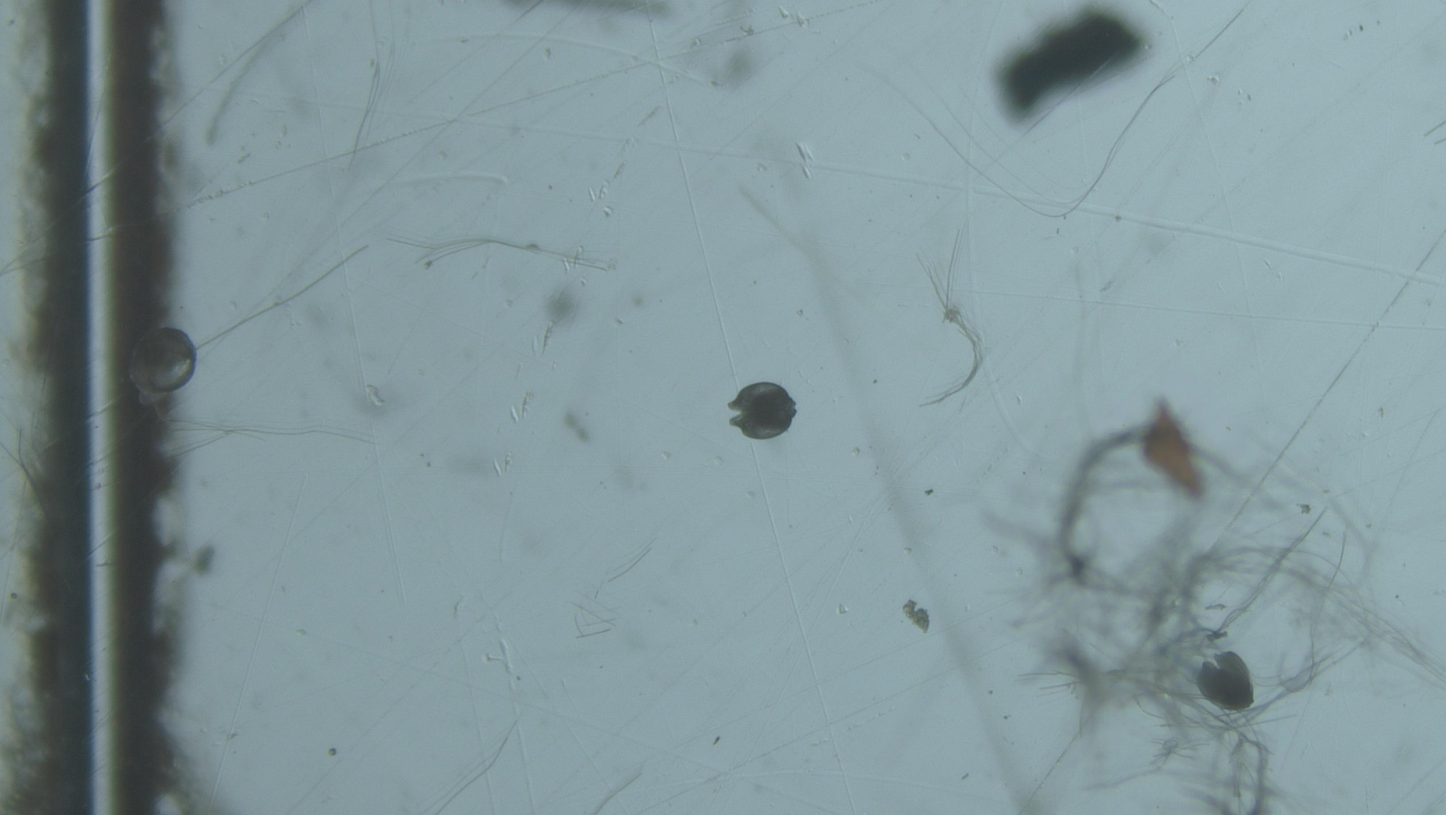live: (130, 328, 197, 406), (728, 383, 797, 440), (1196, 651, 1255, 711)
